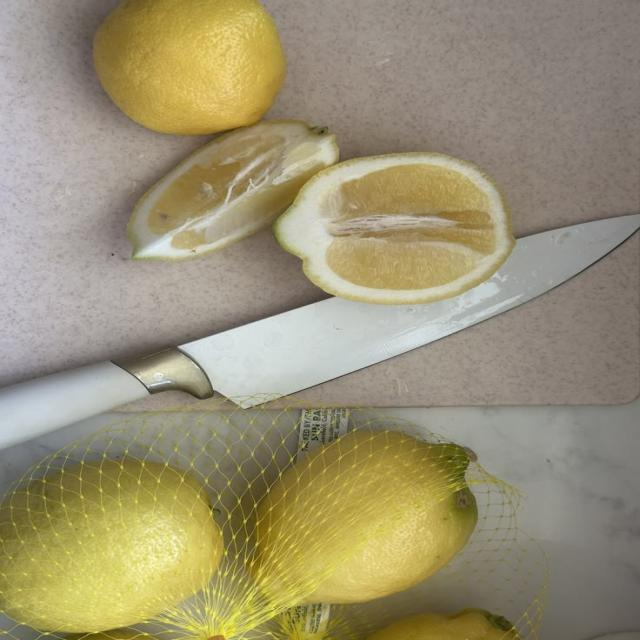lemon: (252, 430, 477, 603), (0, 459, 223, 632), (274, 153, 514, 304), (127, 121, 338, 259), (94, 0, 285, 134), (368, 609, 519, 639), (65, 629, 157, 639)
